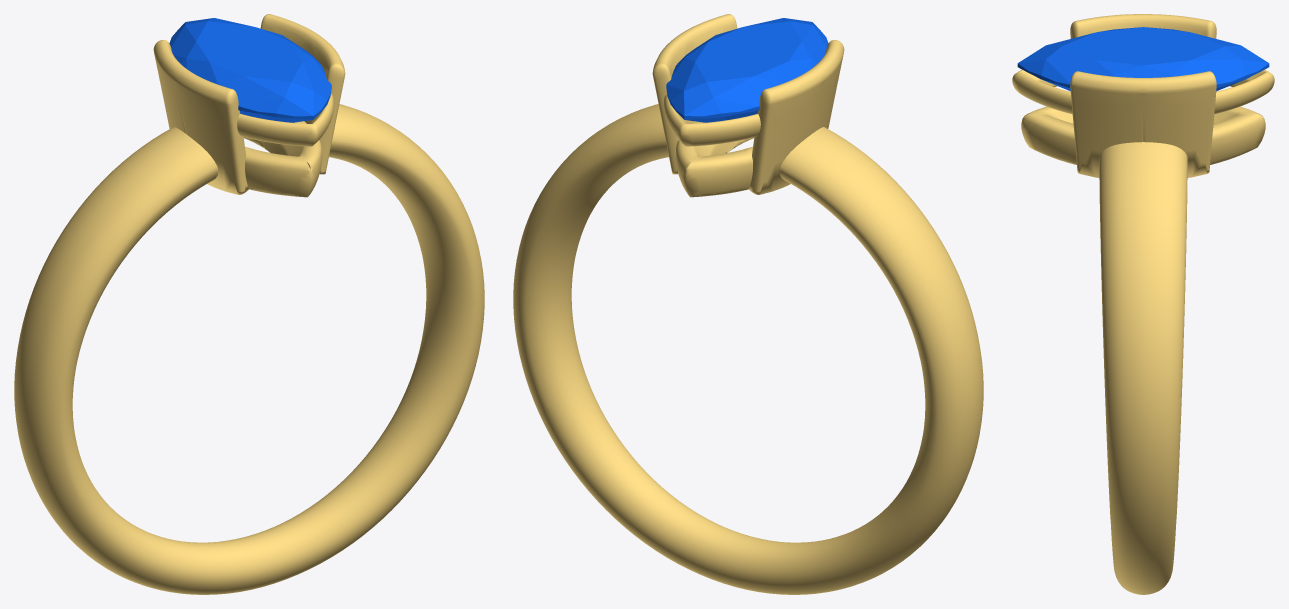
Rendered from bluesapphire-marquise-yellowgold-halfmoonbezel-taperedband-nosidestones.glb.
3 views of the same model, side by side, from view 1: azimuth 30°, elevation 25°; view 2: azimuth 150°, elevation 25°; view 3: azimuth 270°, elevation 25° (orthographic).
Visible parts, largest first — view 1: metal.006, stone; view 2: metal.006, stone; view 3: metal.006, stone.
Boxes of the visible parts, box(x1,y1,x2,y2) form: metal.006: box(14, 14, 484, 594); stone: box(169, 18, 331, 122); metal.006: box(513, 14, 983, 594); stone: box(666, 18, 828, 122); metal.006: box(1012, 14, 1274, 594); stone: box(1017, 27, 1269, 91).
Size of the model in its own units: 20.48 by 22.93 by 10.4.
